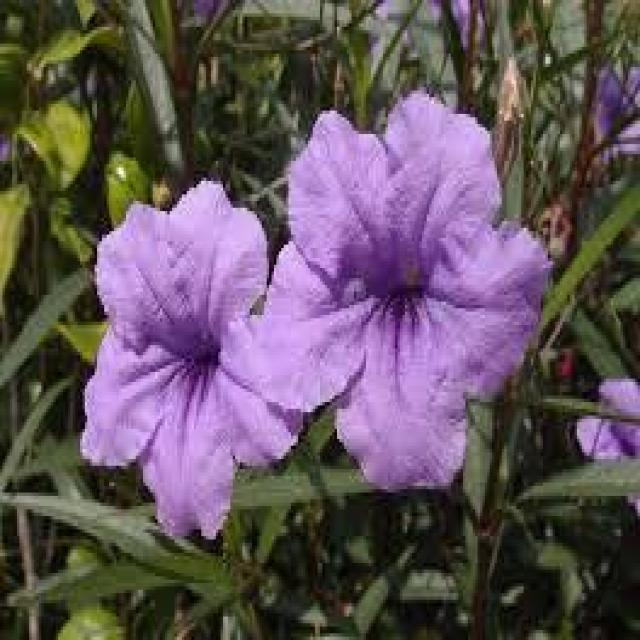organic waste: (264, 95, 548, 518), (76, 176, 312, 544)
